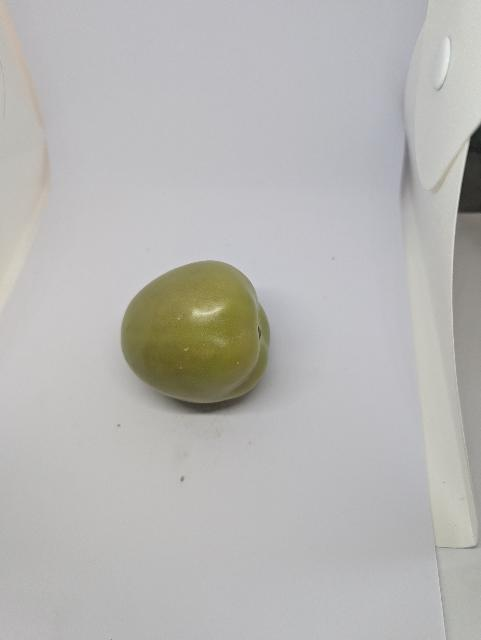green: (105, 240, 302, 430)
